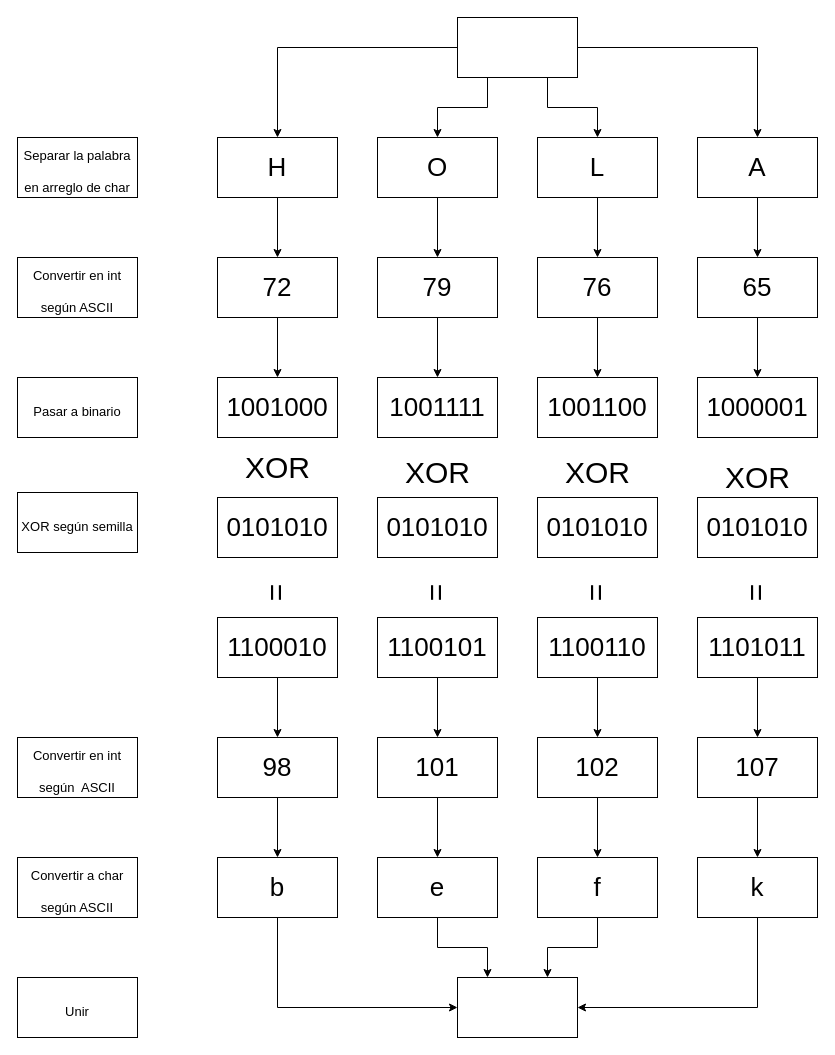
Image size: 835x1055. Some labels were removed from this diagram. Here are the shapes that lost their labels. From the top down, the centre of each, then its label:
point 517,47: HOLA
point 517,1007: befk
